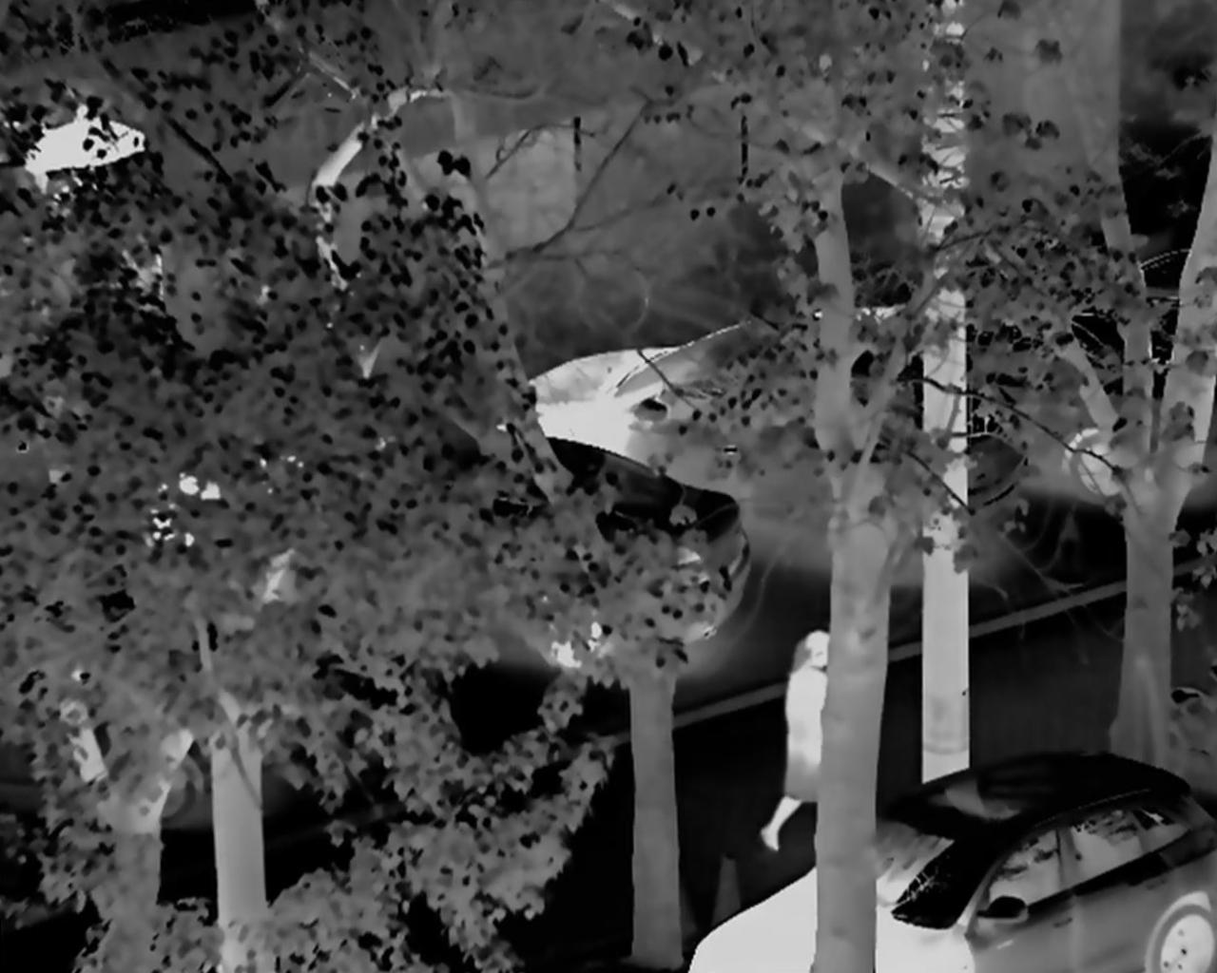person: (762, 631, 838, 852)
